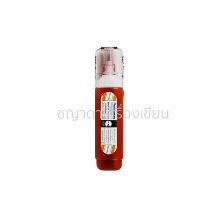correction_fluid: (90, 44, 126, 175)
